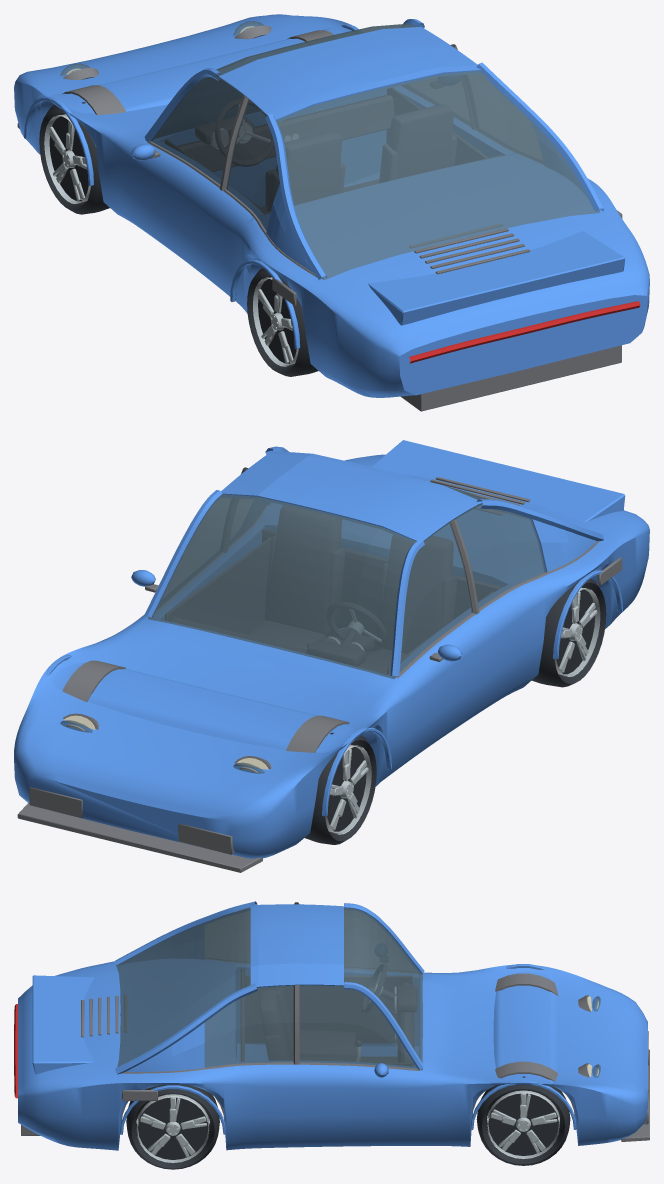
File: FalkeR.fbx
3 views of the same model, one above another, from view 1: azimuth 30°, elevation 25°; view 2: azimuth 150°, elevation 25°; view 3: azimuth 270°, elevation 25° (orthographic). The views are drawn at different scales.
Parts seen in each view (by area): view 1: Body__paint, Body__glass, Body__interior, Body__engine, WheelFL__rubber, WheelRL__rubber, Body__tail, WheelFL__metal, WheelRL__metal, Steer__interior; view 2: Body__paint, Body__glass, Body__interior, Body__engine, WheelRL__rubber, WheelFL__rubber, WheelFL__metal, WheelRL__metal, Steer__interior; view 3: Body__paint, Body__glass, Body__interior, Body__engine, WheelFR__rubber, WheelRR__rubber, WheelRR__metal, WheelFR__metal.
Boxes of the visible parts, x1,y1,x2,y2 form: Body__paint: (14,14,649,397); Body__glass: (60,21,599,279); Body__interior: (165,88,502,214); Body__engine: (17,25,622,411); WheelFL__rubber: (39,102,109,214); WheelRL__rubber: (247,268,318,376); Body__tail: (409,301,640,363); WheelFL__metal: (44,114,90,203); WheelRL__metal: (253,277,297,365); Steer__interior: (215,99,273,166); Body__paint: (14,440,649,858); Body__glass: (60,485,545,773); Body__interior: (165,505,501,674); Body__engine: (17,467,622,872); WheelRL__rubber: (532,578,606,687); WheelFL__rubber: (305,732,376,844); WheelFL__metal: (325,744,371,833); WheelRL__metal: (556,587,600,676); Steer__interior: (326,602,387,650); Body__paint: (18,901,647,1150); Body__glass: (116,907,600,1077); Body__interior: (241,968,416,1066); Body__engine: (21,902,649,1141); WheelFR__rubber: (476,1076,570,1165); WheelRR__rubber: (126,1084,219,1169); WheelRR__metal: (137,1094,208,1162); WheelFR__metal: (487,1090,559,1158).
Bounding box in the file's own units: 2.12 × 1.35 × 4.43.
